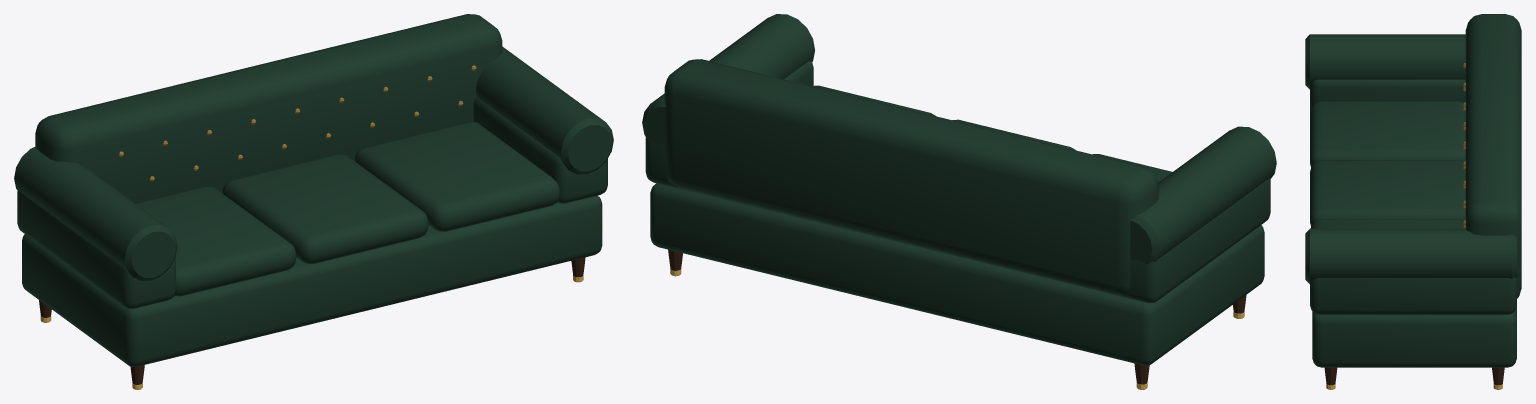
File: sofa.glb
3 views of the same model, side by side, from view 1: azimuth 30°, elevation 25°; view 2: azimuth 150°, elevation 25°; view 3: azimuth 270°, elevation 25° (orthographic). The views are drawn at different scales.
Parts seen in each view (by area): view 1: sofa; view 2: sofa; view 3: sofa.
Boxes of the visible parts, <box> form: sofa: <box>14,14,613,389</box>; sofa: <box>642,14,1276,389</box>; sofa: <box>1305,14,1521,389</box>.
Size of the model in its own units: 2.22 by 0.86 by 0.93.
